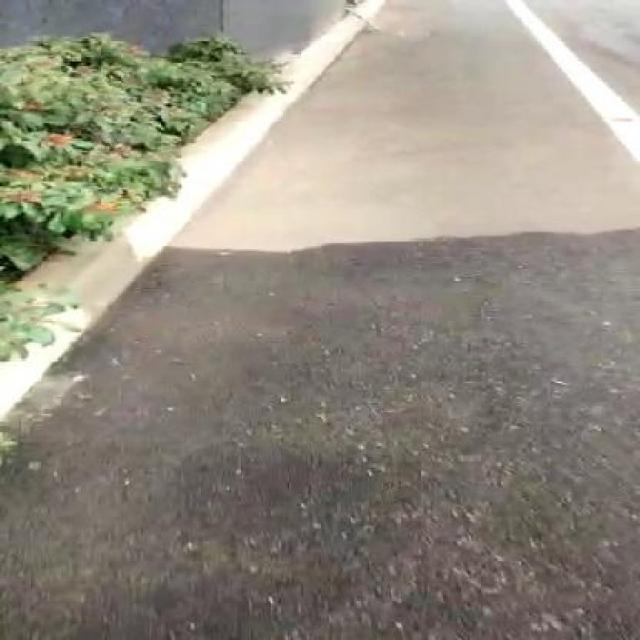Manhole: (393, 28, 432, 40)
